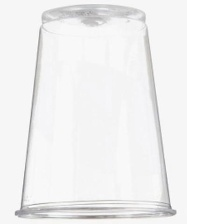glass: (10, 0, 179, 223)
